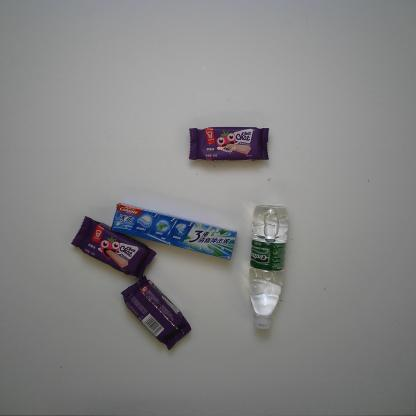Dessert: (69, 214, 158, 284), (119, 273, 193, 354), (187, 123, 272, 163)
Drink: (245, 203, 290, 331)
Personal Hygiene: (112, 204, 240, 262)
